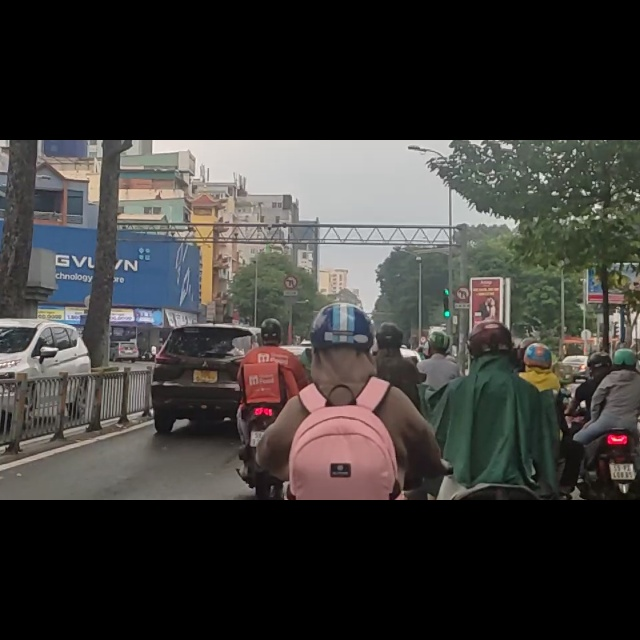bien_cam: (455, 260, 470, 287), (283, 242, 299, 265)
